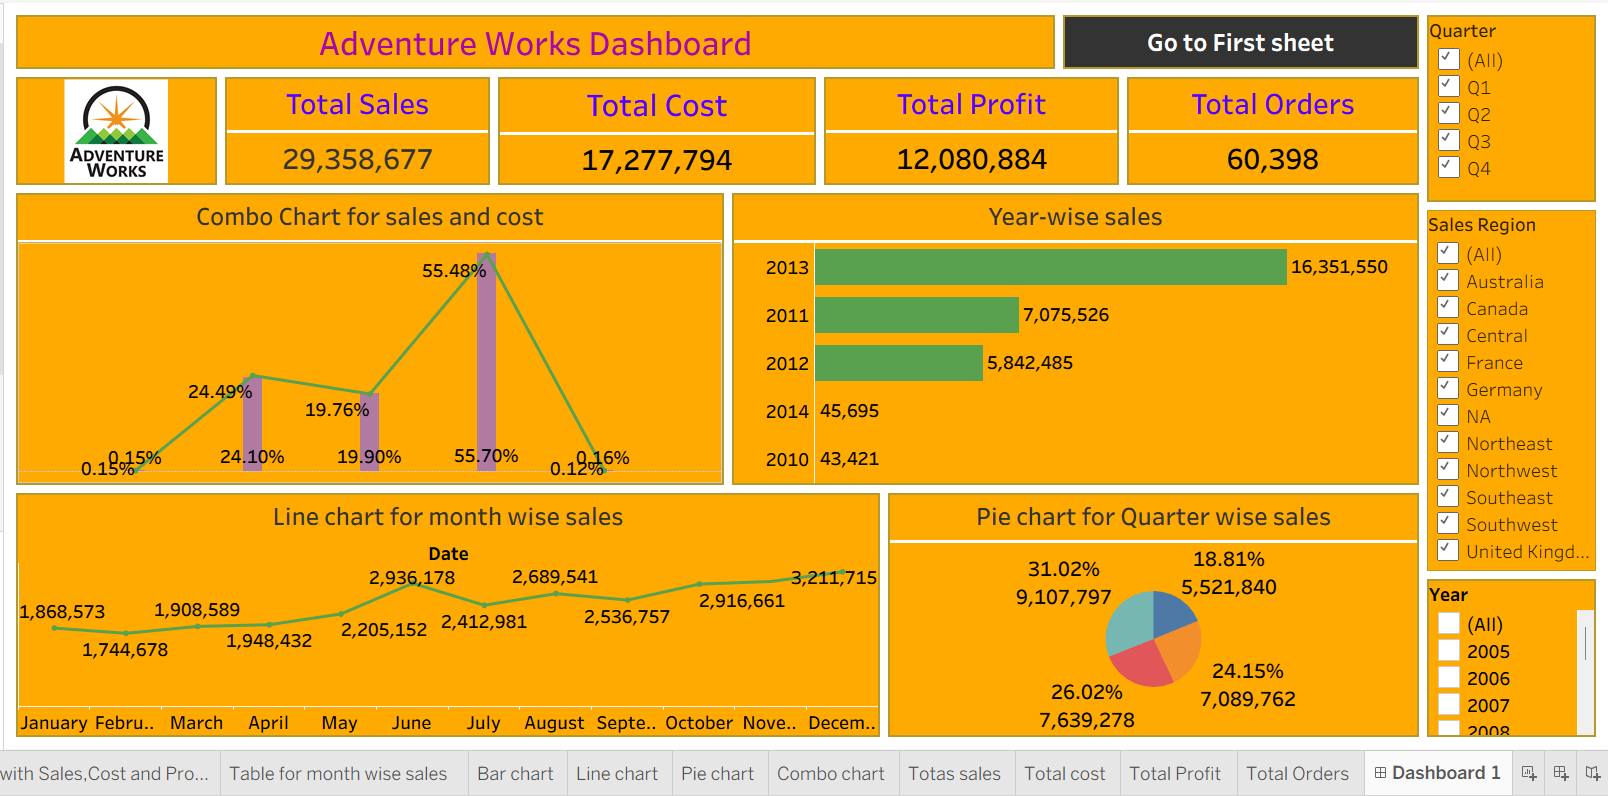

The dashboard page shown, as its layout file describes it:
{"tool":"tableau","page":{"name":"Dashboard 1","canvas":[1000,1000],"units":"permille","ordinal":0},"visuals":[{"type":"text","box":[4.2,9.6,666.4,83.3]},{"type":"dashboard-object","box":[670.6,9.6,231.7,83.3]},{"type":"filter","title":"Pie chart","param":"[federated.04iwg970mfrrcn1dt3i9q0zlp9wx].[none:Calculation_203506410439135233:nk","box":[902.3,9.6,93.5,234.7]},{"type":"image","param":"Image/AdventureWorksLogo.jpg","box":[4.2,92.9,133.3,155.9]},{"type":"worksheet","title":"Totas sales","mark":"Automatic","box":[137.5,92.9,173.5,155.9]},{"type":"worksheet","title":"Total cost","mark":"Automatic","box":[311,92.9,207.5,155.9]},{"type":"worksheet","title":"Total Profit","mark":"Automatic","box":[518.5,92.9,192.9,155.9]},{"type":"worksheet","title":"Total Orders","mark":"Automatic","box":[711.4,92.9,191,155.9]},{"type":"filter","title":"Pie chart","param":"[federated.04iwg970mfrrcn1dt3i9q0zlp9wx].[none:SalesTerritoryRegion:nk]","box":[902.3,244.3,93.5,444.1]},{"type":"worksheet","title":"Combo chart","mark":"Automatic","rows":["Calculation_10414576400990224","Calculation_10414576401776657"],"cols":["Calculation_10414576397774860"],"box":[4.2,248.8,455.8,403]},{"type":"worksheet","title":"Bar chart","mark":"Automatic","rows":["Calculation_10414576397774860"],"cols":["Calculation_10414576400990224"],"box":[460,248.8,442.4,403]},{"type":"worksheet","title":"Line chart","mark":"Line","rows":["Calculation_10414576400990224"],"cols":["Calculation_10414576399200271"],"box":[4.2,651.8,555.2,338.6]},{"type":"worksheet","title":"Pie chart","mark":"Pie","box":[559.5,651.8,342.9,338.6]},{"type":"filter","title":"Bar chart","param":"[federated.04iwg970mfrrcn1dt3i9q0zlp9wx].[none:Calculation_10414576397774860:ok]","box":[902.3,688.3,93.5,302]}]}

Visuals, with their boxes on the dashboard's canvas, which has no fixed pixel size, in thousandths of its width and height (x1, y1, x2, y2). These are canvas units, not pixel positions in the 1608x796 screenshot, which may show the page scaled, cropped or inside an application window:
text: crop(4, 10, 671, 93)
dashboard-object: crop(671, 10, 902, 93)
"Pie chart" filter: crop(902, 10, 996, 244)
image: crop(4, 93, 138, 249)
"Totas sales" worksheet: crop(138, 93, 311, 249)
"Total cost" worksheet: crop(311, 93, 518, 249)
"Total Profit" worksheet: crop(518, 93, 711, 249)
"Total Orders" worksheet: crop(711, 93, 902, 249)
"Pie chart" filter: crop(902, 244, 996, 688)
"Combo chart" worksheet: crop(4, 249, 460, 652)
"Bar chart" worksheet: crop(460, 249, 902, 652)
"Line chart" worksheet (Line marks): crop(4, 652, 559, 990)
"Pie chart" worksheet (Pie marks): crop(560, 652, 902, 990)
"Bar chart" filter: crop(902, 688, 996, 990)
